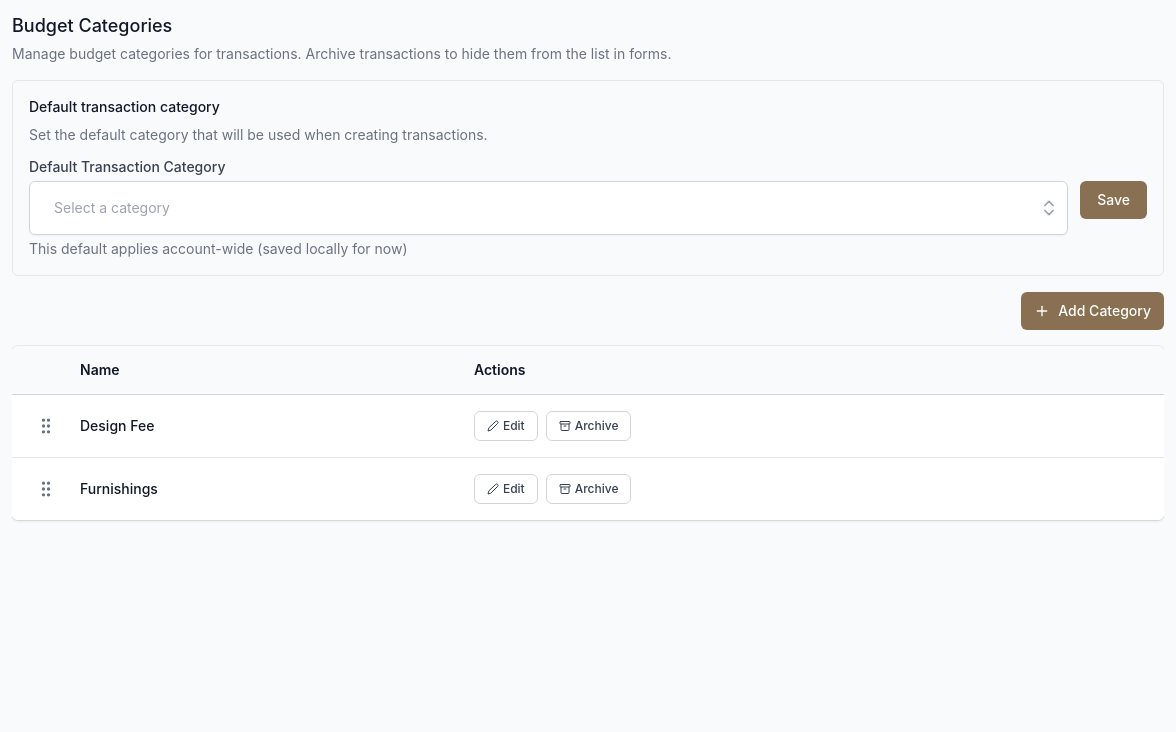
BudgetCategoriesManager › should show create form when "Add Category" is clicked
The width and height of the screenshot is (1176, 732).
Click the button "Add Category" at (1093,311), box [1021,292,1164,330]
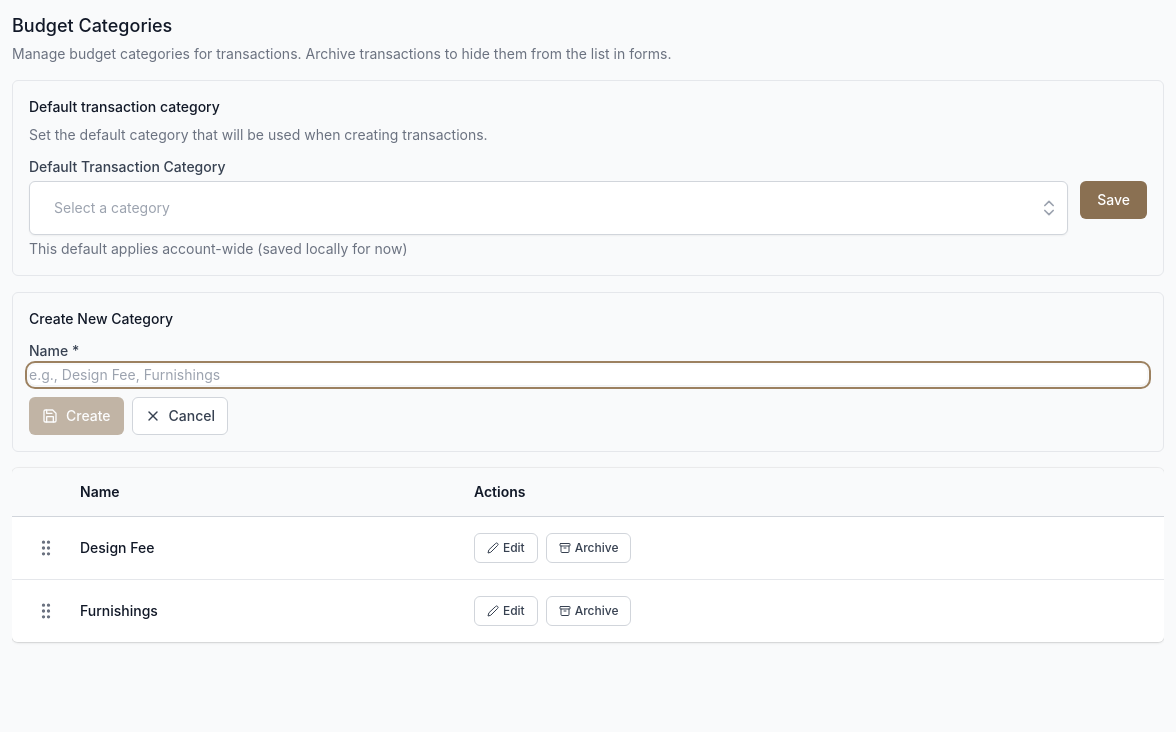
Expected: the heading "Create New Category" is shown, [29,310,173,327]
Expected: the field labelled "Name *" is shown, [29,365,1147,385]
